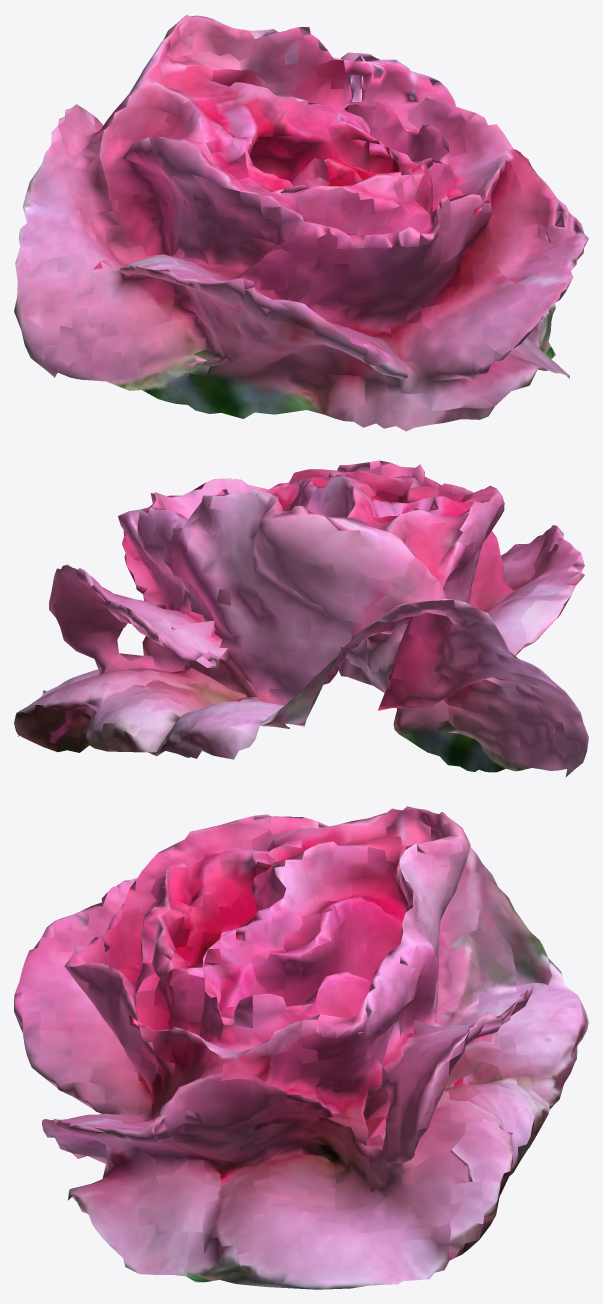
3 renders of one model, top to bottom at view 1: azimuth 30°, elevation 25°; view 2: azimuth 150°, elevation 25°; view 3: azimuth 270°, elevation 25°, orthographic. The views are drawn at different scales.
Parts seen in each view (by area): view 1: 9d28788b; view 2: 9d28788b; view 3: 9d28788b.
Boxes of the visible parts, x1,y1,x2,y2 form: 9d28788b: [14, 14, 588, 431]; 9d28788b: [14, 460, 588, 776]; 9d28788b: [14, 806, 588, 1289].
Size of the model in its own units: 0.0866 by 0.0497 by 0.076.
1 material, 1 textured.
